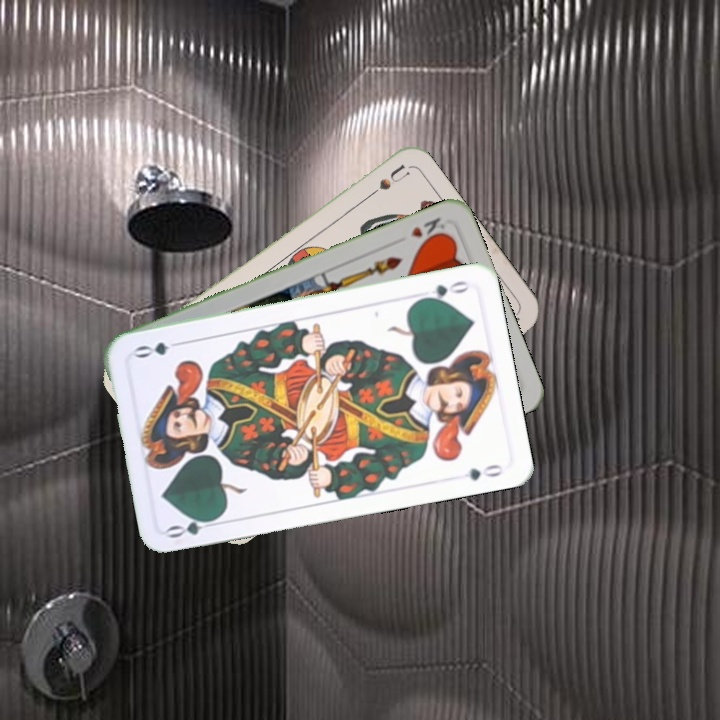GO: (163, 513, 223, 541), (415, 276, 473, 304)
HK: (406, 213, 449, 247)
SU: (358, 161, 412, 205)
